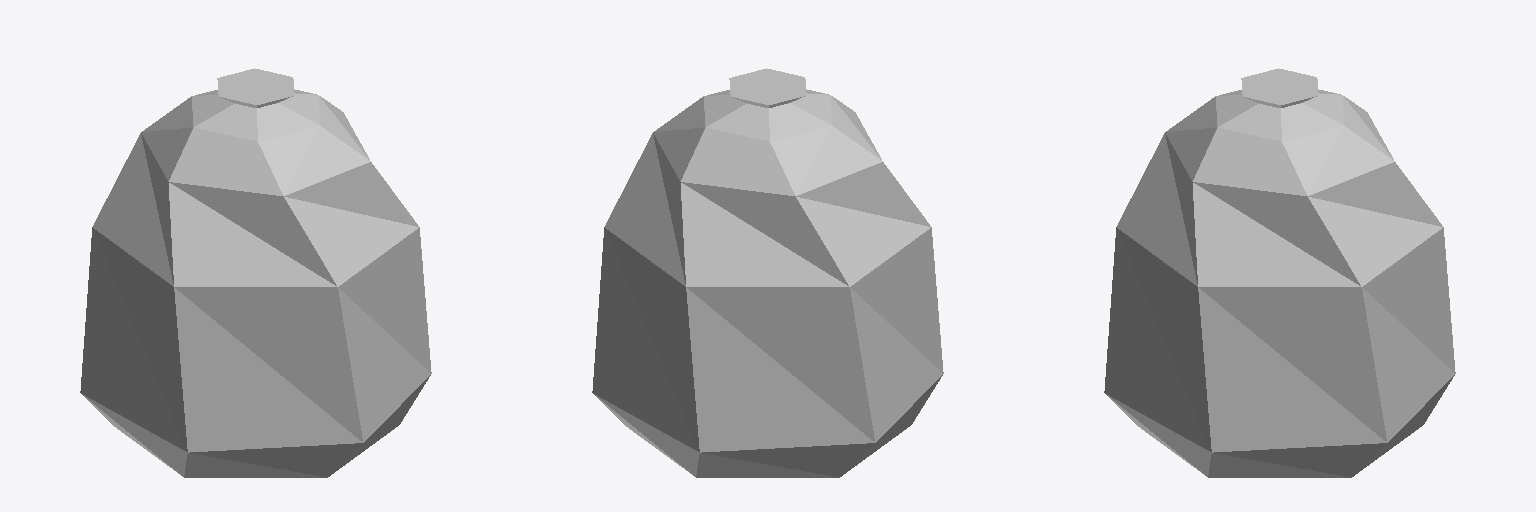
The model's file is Sack.obj.
3 renders of one model, left to right at view 1: azimuth 30°, elevation 25°; view 2: azimuth 150°, elevation 25°; view 3: azimuth 270°, elevation 25°, orthographic.
Parts seen in each view (by area): view 1: Sack; view 2: Sack; view 3: Sack.
Part boxes in pixels (bbox=[...]): Sack: bbox=[80, 68, 431, 477]; Sack: bbox=[592, 68, 943, 477]; Sack: bbox=[1104, 68, 1455, 477].
Bounding box in the file's own units: 0.9228 × 1.05 × 0.9918.